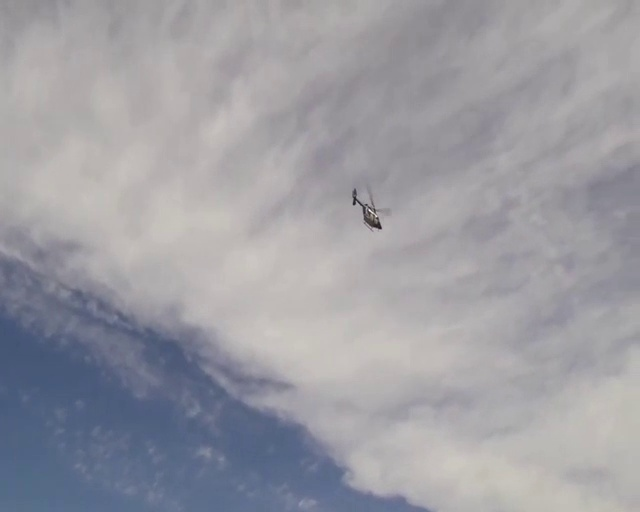HELICOPTER: (351, 185, 390, 231)
